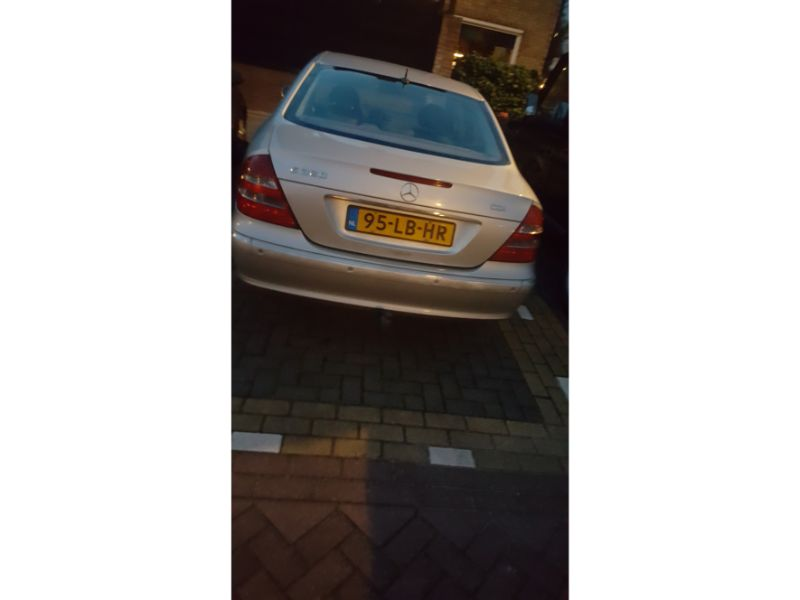kenteken: (340, 209, 459, 248)
